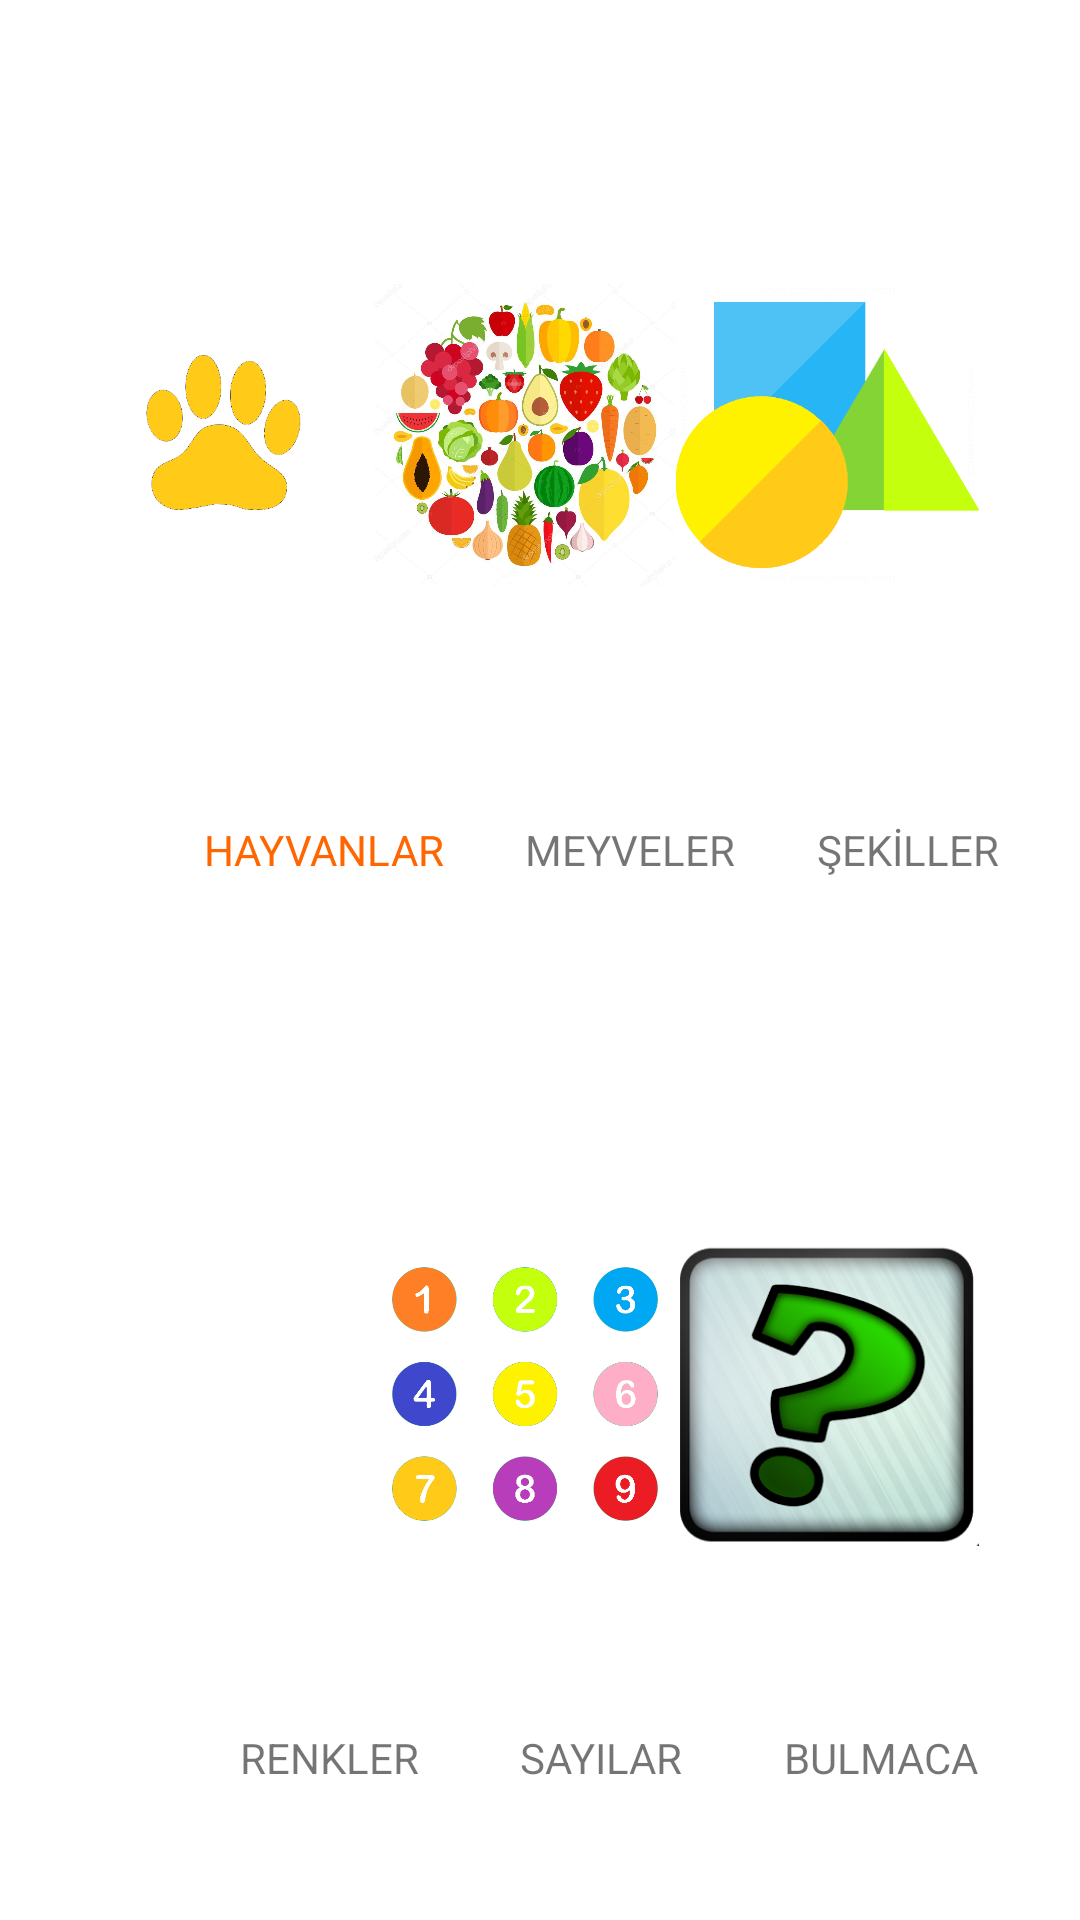

Where to tap for icons on this 1080px x 1920px app screen, as (x,y):
animalicon: (223,432)
fruit: (525,434)
numbers: (525,1394)
riddles: (829,1397)
shapeicon: (827,435)
